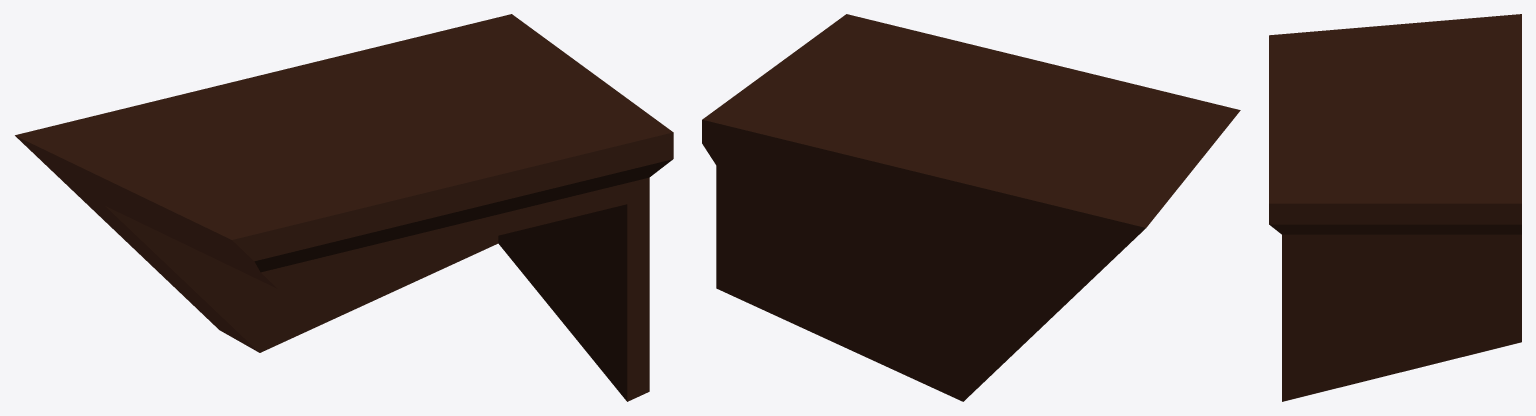
The model's file is Placard_Part_6.fbx.
3 renders of one model, left to right at view 1: azimuth 30°, elevation 25°; view 2: azimuth 150°, elevation 25°; view 3: azimuth 270°, elevation 25°, orthographic. The views are drawn at different scales.
Visible parts, largest first — view 1: Placard_Part_6; view 2: Placard_Part_6; view 3: Placard_Part_6.
Part boxes in pixels (box(x1,y1,x2,y2)): Placard_Part_6: box(15, 14, 673, 401); Placard_Part_6: box(702, 14, 1240, 401); Placard_Part_6: box(1269, 14, 1521, 401).
Bounding box in the file's own units: 158 × 81.01 × 89.15.
